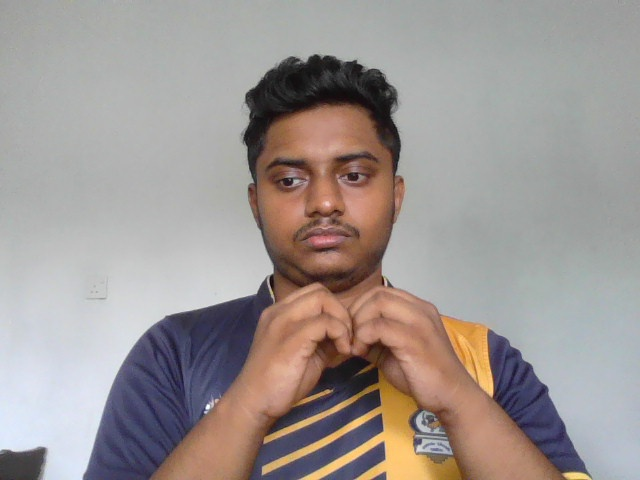More: (249, 280, 452, 417)
